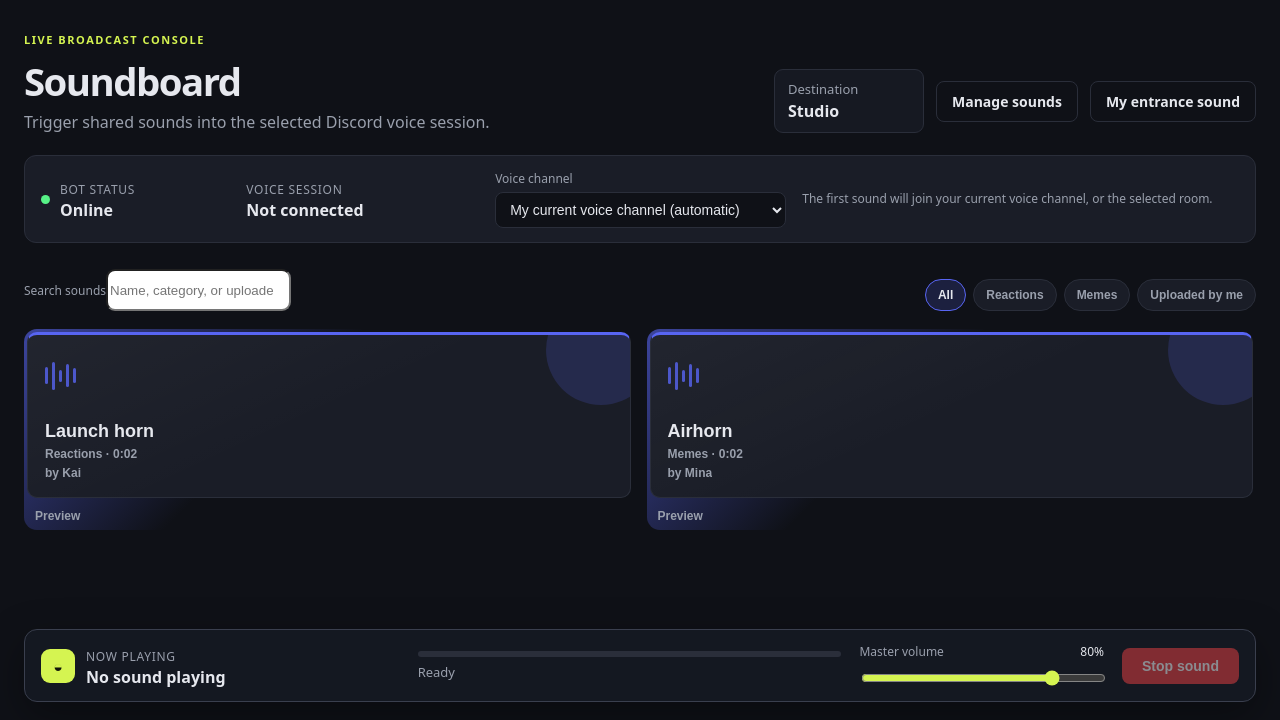
Test: Soundboard › visually disables every pad while a play request is pending
Click the button with aria-label "Play Launch horn" at (100, 431), box [27,332,630,498]
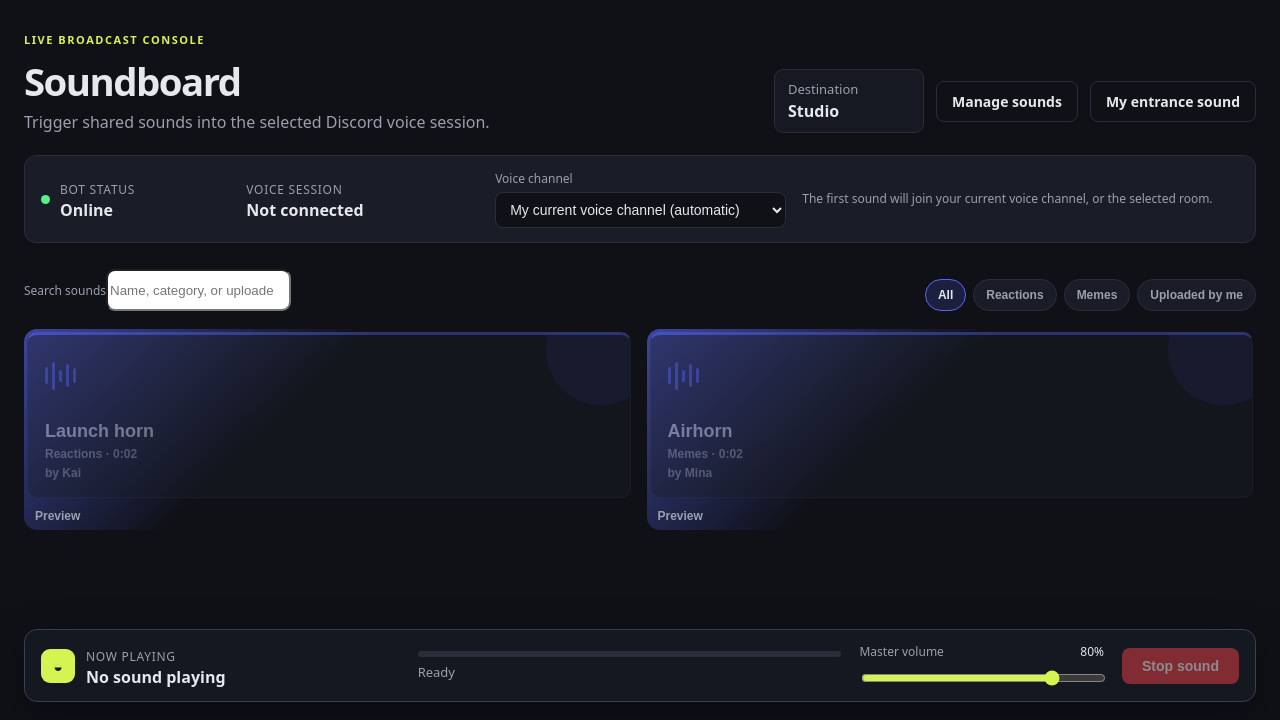
Expected: the button with aria-label "Play Launch horn" is disabled, [27,332,630,498]
Expected: the button with aria-label "Play Airhorn" is disabled, [650,332,1253,498]
